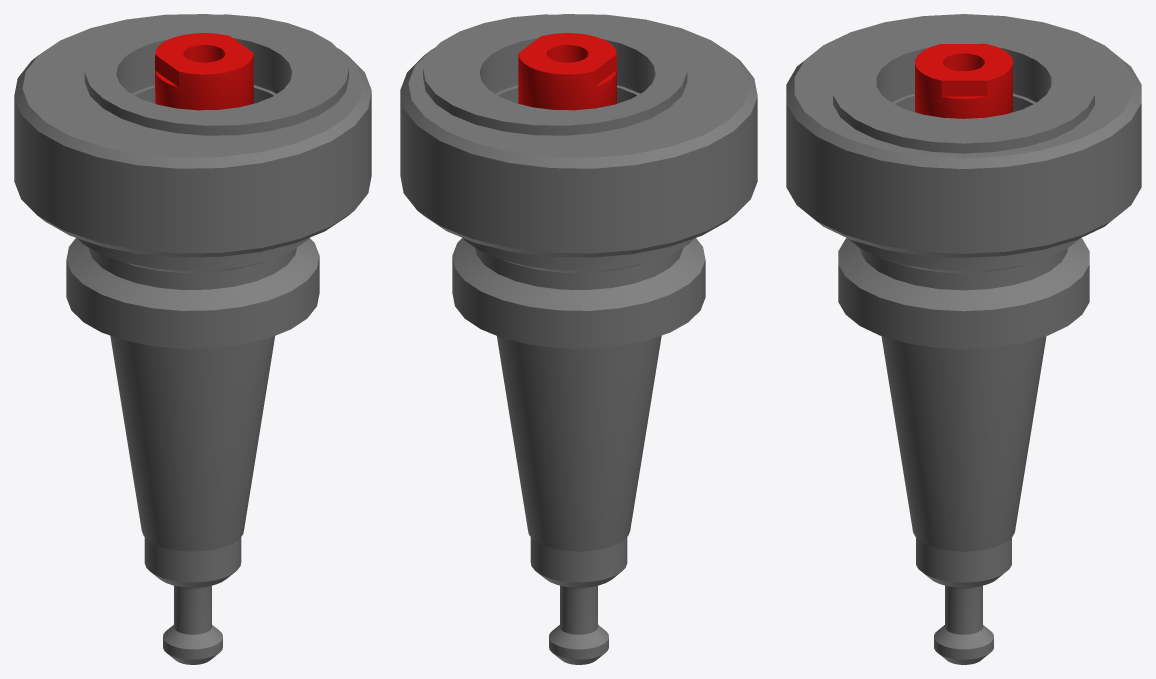
3 views of the same model, side by side, from view 1: azimuth 30°, elevation 25°; view 2: azimuth 150°, elevation 25°; view 3: azimuth 270°, elevation 25° (orthographic).
Visible parts, largest first — view 1: node0, node1; view 2: node0, node1; view 3: node0, node1.
Part boxes in pixels (x1=…): node0: x1=14, y1=14, x2=371, y2=664; node1: x1=155, y1=33, x2=253, y2=110; node0: x1=400, y1=14, x2=757, y2=664; node1: x1=518, y1=33, x2=616, y2=110; node0: x1=786, y1=14, x2=1141, y2=664; node1: x1=915, y1=43, x2=1012, y2=118.
Size of the model in its own units: 0.065 by 0.0645 by 0.1203.
